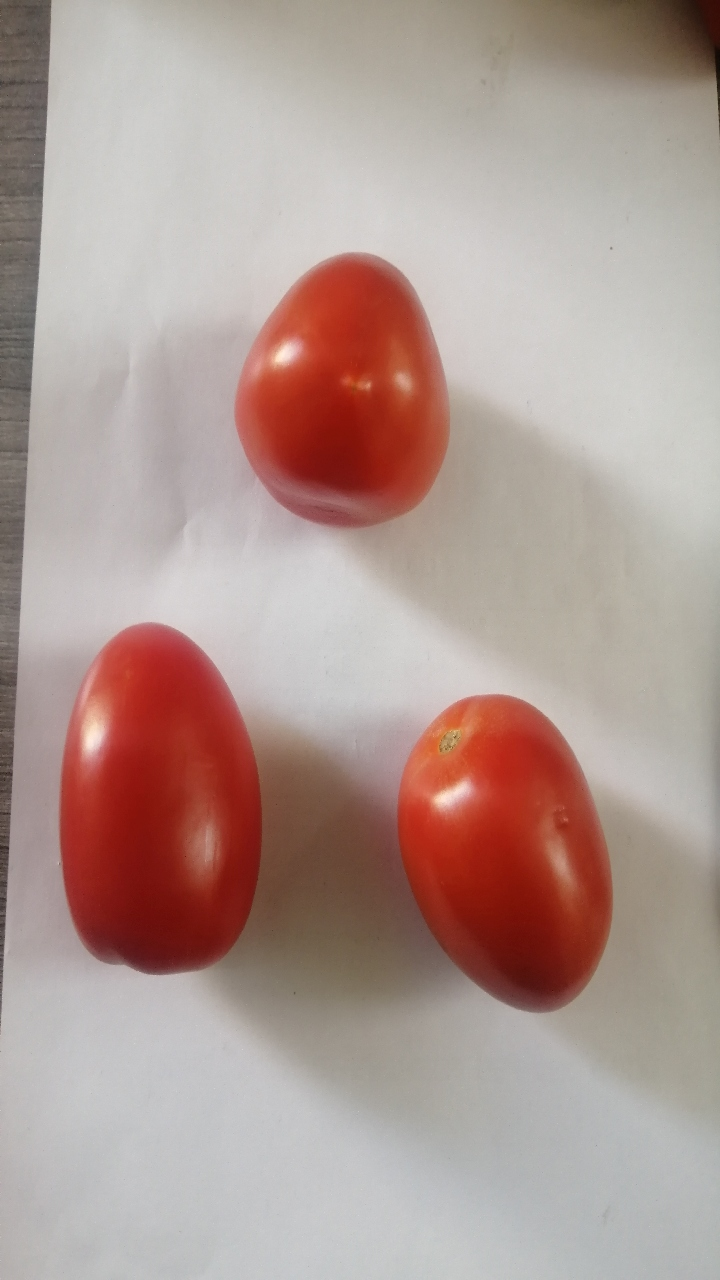tomateRojo: (32, 611, 281, 992), (378, 672, 621, 1043), (217, 231, 461, 539)
